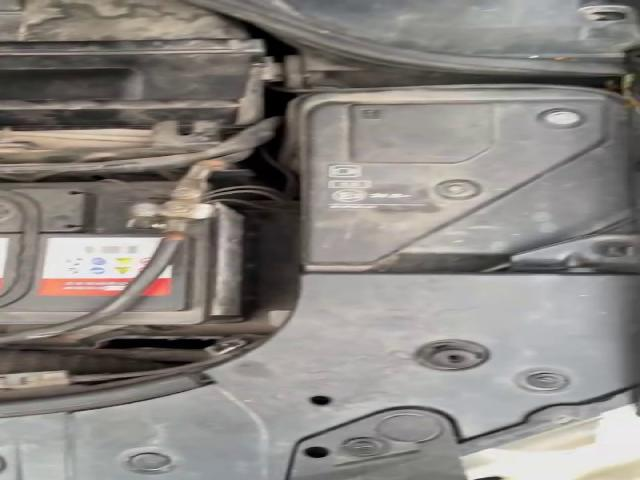accumulator: (0, 179, 253, 326)
fuse_box: (285, 83, 635, 272)
